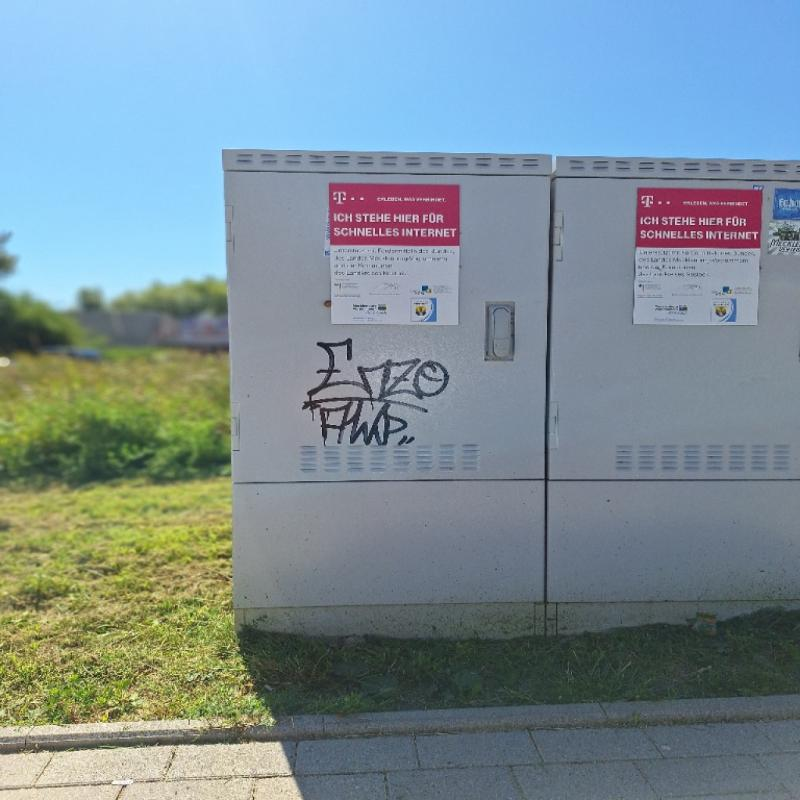NT-Gehause: (223, 149, 554, 602), (547, 155, 798, 606)
Steaker: (329, 183, 462, 325), (633, 190, 761, 329)
